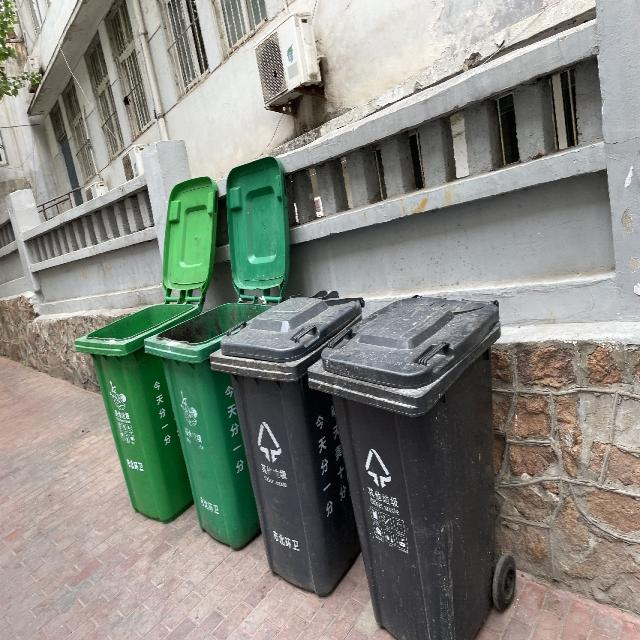garbage_bin: (306, 294, 500, 638), (208, 290, 364, 597), (142, 301, 274, 550), (73, 302, 199, 524)
